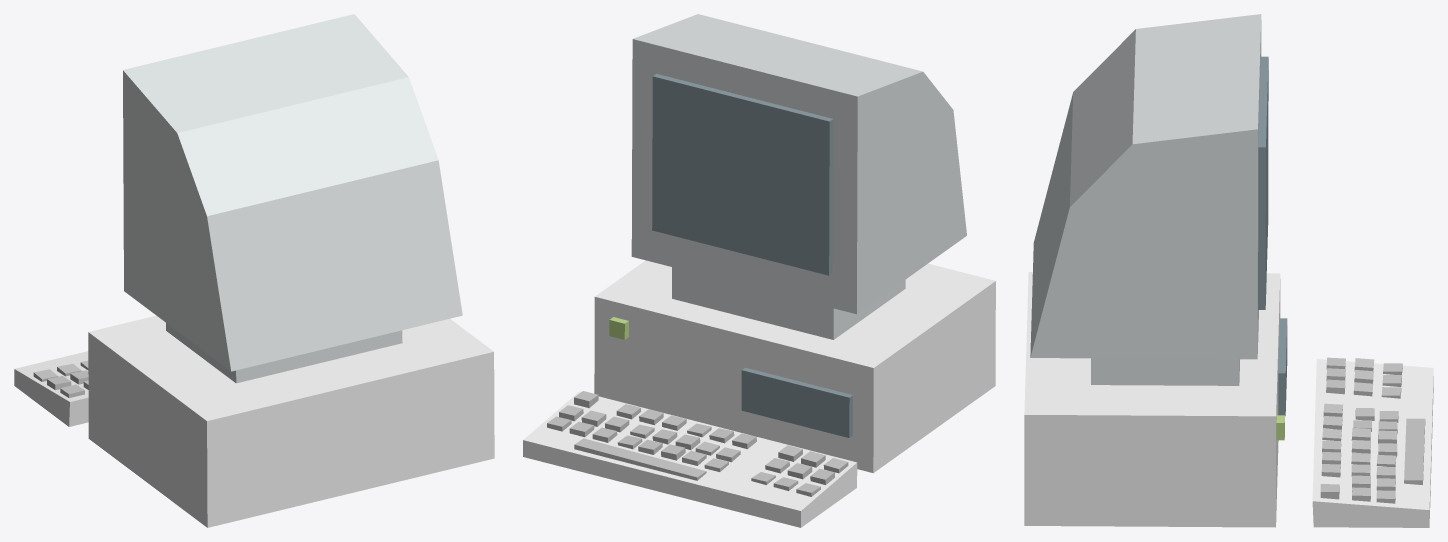
File: computer.glb
The picture shows the model from 3 angles, left to right: view 1: azimuth 30°, elevation 25°; view 2: azimuth 150°, elevation 25°; view 3: azimuth 270°, elevation 25°; orthographic projection. The views are drawn at different scales.
Visible parts, largest first — view 1: group861517382, group1631870305, group2115554823, group1639888595; view 2: group861517382, group1631870305, group1262710399, group1639888595, group2115554823, group2131501692, group1139380957, group806411317, group396267525, group1625508101; view 3: group861517382, group1631870305, group1639888595, group2115554823, group1262710399, group1139380957, group2131501692, group396267525, group806411317, group1625508101.
Boxes of the visible parts, left/top/right/bottom form: group861517382: left=123, top=14, right=462, bottom=371; group1631870305: left=88, top=315, right=494, bottom=527; group2115554823: left=166, top=323, right=402, bottom=383; group1639888595: left=14, top=351, right=88, bottom=426; group861517382: left=631, top=14, right=966, bottom=314; group1631870305: left=594, top=260, right=995, bottom=473; group1262710399: left=652, top=73, right=833, bottom=275; group1639888595: left=523, top=391, right=857, bottom=527; group2115554823: left=672, top=267, right=905, bottom=339; group2131501692: left=741, top=367, right=852, bottom=437; group1139380957: left=574, top=438, right=706, bottom=480; group806411317: left=778, top=445, right=848, bottom=473; group396267525: left=765, top=458, right=834, bottom=485; group1625508101: left=751, top=472, right=820, bottom=496; group861517382: left=1030, top=14, right=1261, bottom=359; group1631870305: left=1024, top=272, right=1280, bottom=527; group1639888595: left=1312, top=359, right=1433, bottom=527; group2115554823: left=1091, top=358, right=1239, bottom=385; group1262710399: left=1258, top=56, right=1268, bottom=309; group1139380957: left=1404, top=418, right=1425, bottom=484; group2131501692: left=1278, top=318, right=1287, bottom=416; group396267525: left=1353, top=358, right=1374, bottom=396; group806411317: left=1326, top=357, right=1345, bottom=394; group1625508101: left=1381, top=363, right=1402, bottom=398.
Bounding box in the file's own units: 0.3668 × 0.4523 × 0.4352.
